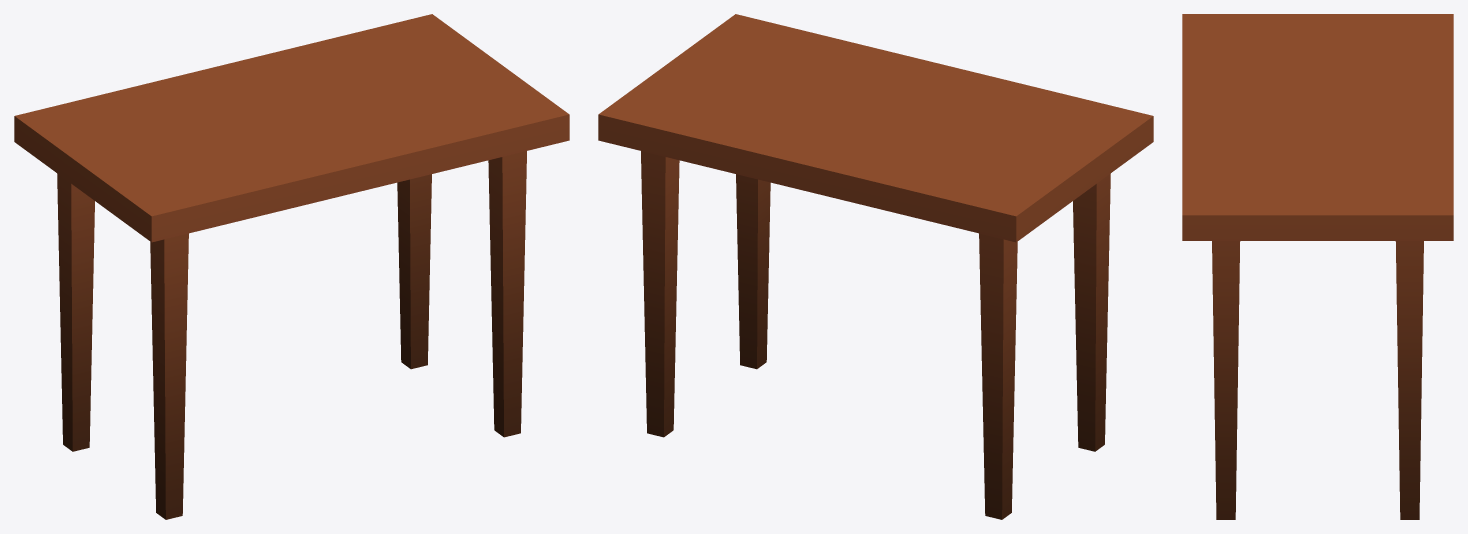
File: Desk.fbx
The picture shows the model from 3 angles, left to right: view 1: azimuth 30°, elevation 25°; view 2: azimuth 150°, elevation 25°; view 3: azimuth 270°, elevation 25°; orthographic projection.
Visible parts, largest first — view 1: Cube.002; view 2: Cube.002; view 3: Cube.002.
Part boxes in pixels (x1,y1,x2,y2): Cube.002: [14, 14, 569, 519]; Cube.002: [598, 14, 1153, 519]; Cube.002: [1182, 14, 1453, 519].
Size of the model in its own units: 129 by 95.33 by 73.24.
